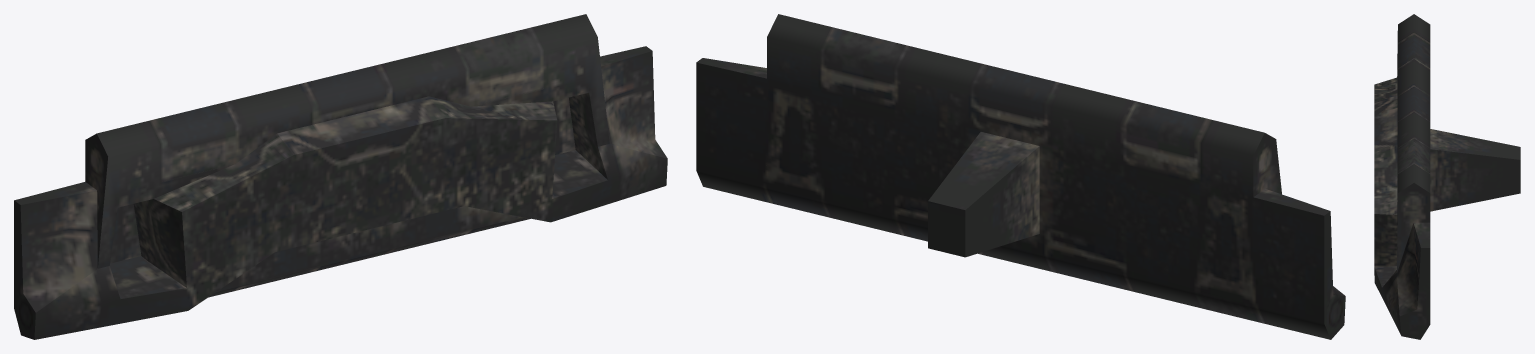
The picture shows the model from 3 angles, left to right: view 1: azimuth 30°, elevation 25°; view 2: azimuth 150°, elevation 25°; view 3: azimuth 270°, elevation 25°; orthographic projection. The views are drawn at different scales.
Parts seen in each view (by area): view 1: set_0_group_0; view 2: set_0_group_0; view 3: set_0_group_0.
Part boxes in pixels (x1,y1,x2,y2): set_0_group_0: (14,14,667,339); set_0_group_0: (696,14,1345,339); set_0_group_0: (1374,14,1520,339).
Bounding box in the file's own units: 0.6703 × 0.1904 × 0.1899.
Materials: 1 (1 with a texture image).
